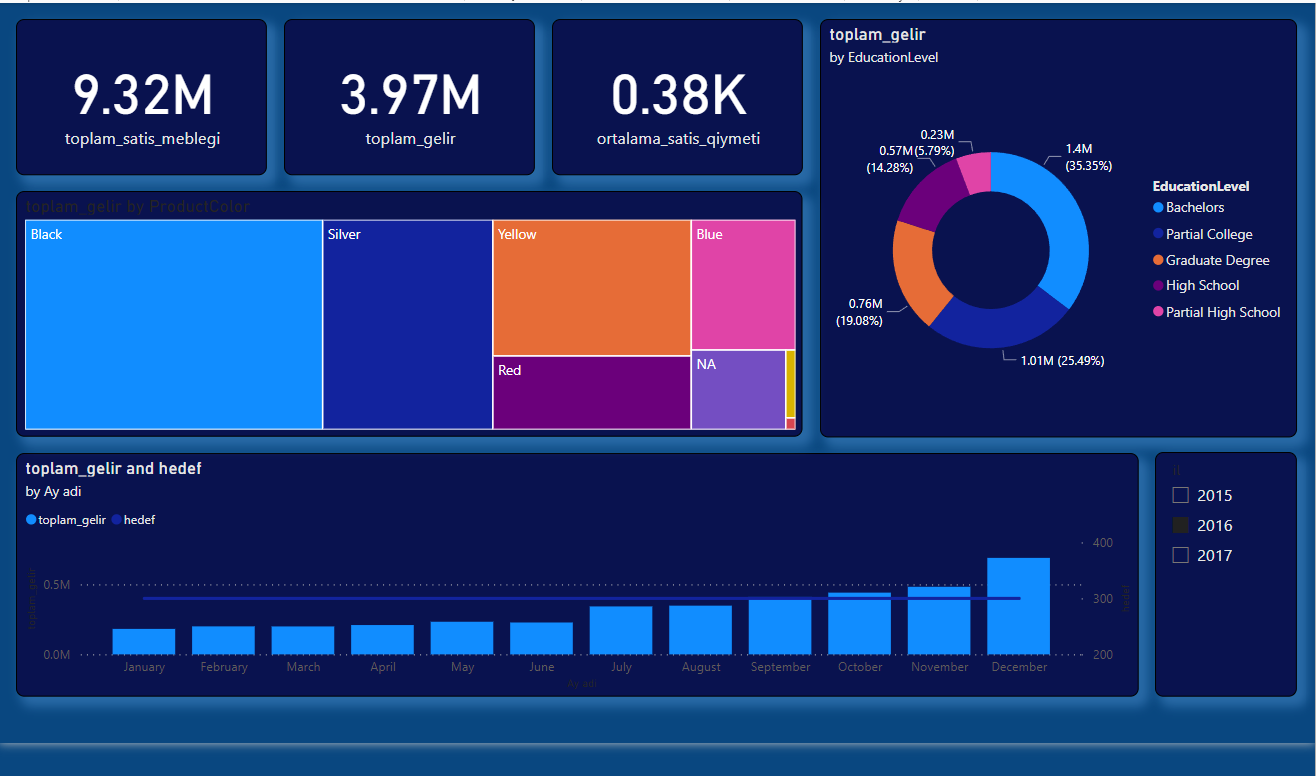

This screenshot's page, from the dashboard's own definition file:
{"tool":"powerbi","page":{"name":"report","canvas":[1280,720],"ordinal":3},"visuals":[{"type":"card","fields":{"Values":["All_Measures.toplam_satis_meblegi"]},"box":[16.5,15.4,244.1,152.4],"z":0},{"type":"card","fields":{"Values":["All_Measures.toplam_gelir"]},"box":[277,15.4,244.1,152.4],"z":1},{"type":"card","fields":{"Values":["All_Measures.ortalama_satis_qiymeti"]},"box":[537.5,15.4,244.1,152.4],"z":2},{"type":"donutChart","fields":{"Category":["Customers.EducationLevel"],"Y":["All_Measures.toplam_gelir"]},"box":[798.1,15.4,464.4,406.8],"z":3},{"type":"lineClusteredColumnComboChart","fields":{"Y":["All_Measures.toplam_gelir"],"Category":["Teqvim.Ay adi"],"Y2":["All_Measures.hedef"]},"box":[16.5,437.7,1091.6,236.8],"z":5},{"type":"slicer","fields":{"Values":["Teqvim.il"]},"box":[1124.5,436.6,138,237.9],"z":6},{"type":"treemap","fields":{"Group":["Products.ProductColor"],"Values":["All_Measures.toplam_gelir"]},"box":[16.5,183.3,765.1,238.9],"z":7}]}

Visuals, with their boxes on the page's 1280x720 design canvas (x1, y1, x2, y2). These are canvas units, not pixel positions in the 1316x776 screenshot, which may show the page scaled, cropped or inside an application window:
card - All_Measures.toplam_satis_meblegi: 16:15:261:168
card - All_Measures.toplam_gelir: 277:15:521:168
card - All_Measures.ortalama_satis_qiymeti: 538:15:782:168
donutChart - Customers.EducationLevel x All_Measures.toplam_gelir: 798:15:1262:422
lineClusteredColumnComboChart - All_Measures.toplam_gelir x Teqvim.Ay adi: 16:438:1108:674
slicer - Teqvim.il: 1124:437:1262:674
treemap - Products.ProductColor x All_Measures.toplam_gelir: 16:183:782:422
